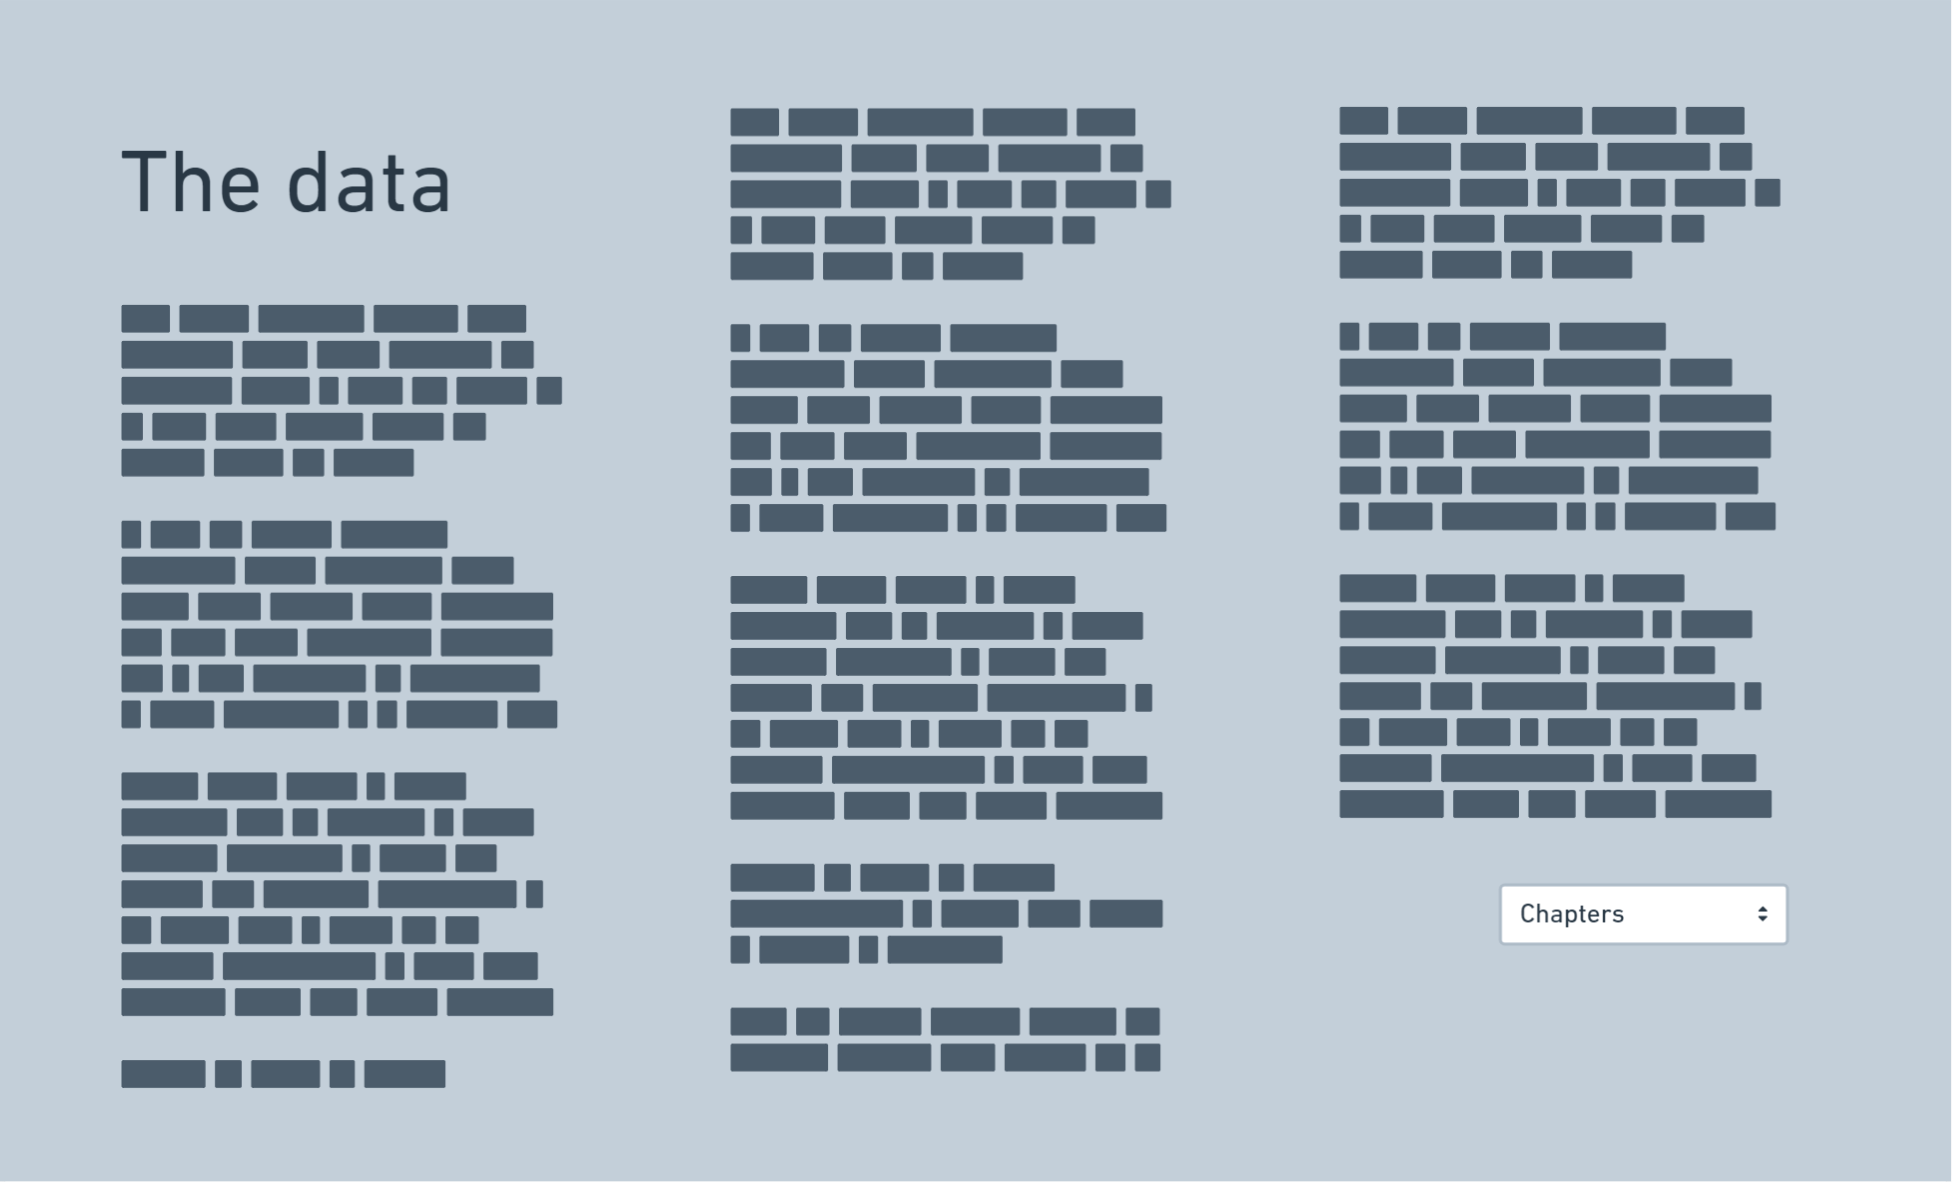

What the dashboard file says about the page in this screenshot:
{"tool":"tableau","page":{"name":"Dashboard 1","canvas":[1000,800],"ordinal":0},"visuals":[{"type":"worksheet","title":"Sheet 2","mark":"Automatic","rows":["798!data!only!not!on!view!rows_52761707DF0A46CA932B8A59ADC1F"],"cols":["date_acquired"],"box":[8,8,984,784]}]}

Visuals, with their boxes on the page's 1000x800 design canvas (x1, y1, x2, y2). These are canvas units, not pixel positions in the 1952x1182 screenshot, which may show the page scaled, cropped or inside an application window:
"Sheet 2" worksheet: [x1=8, y1=8, x2=992, y2=792]
